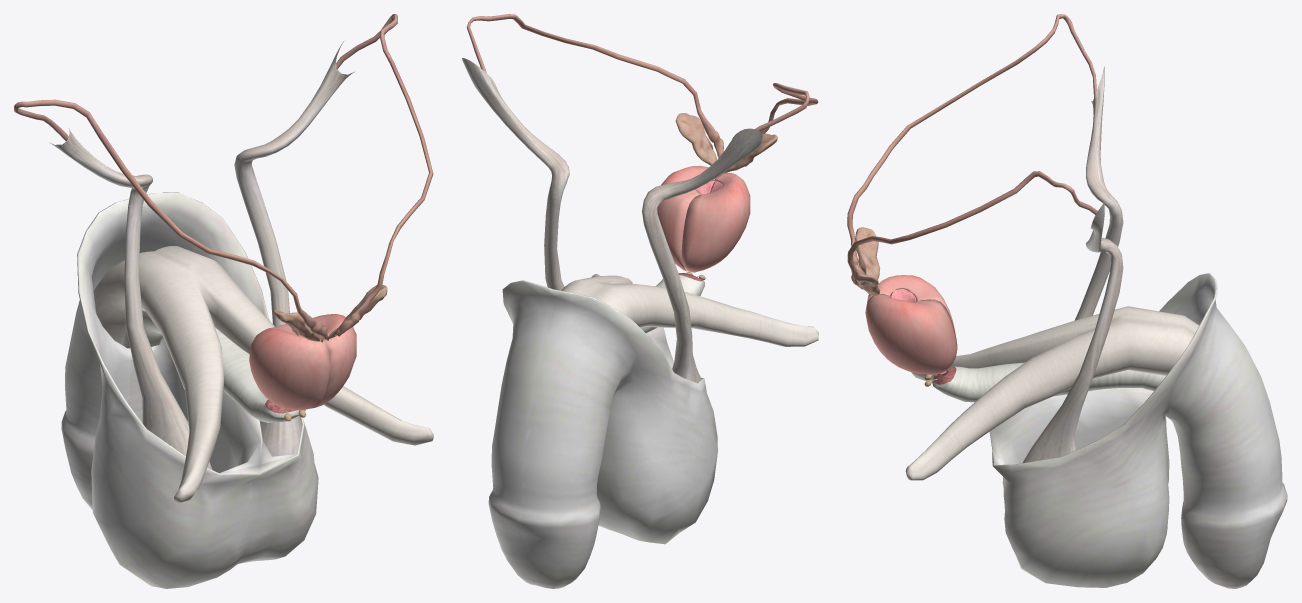
The model's file is reproductive.glb.
The picture shows the model from 3 angles, left to right: view 1: azimuth 30°, elevation 25°; view 2: azimuth 150°, elevation 25°; view 3: azimuth 270°, elevation 25°; orthographic projection. The views are drawn at different scales.
Parts seen in each view (by area): view 1: Dartos fascia#Male~300071, Buck's fascia (upper)#Male~300072, Spermatic fascia, L#Male~300697, Spermatic fascia, R#Male~300698, Prostatic capsule, L#Male~300085, Vas deferens, L#Male~001430, Buck's fascia (lower)#Male~300073, Vas deferens, R#Male~001429, Prostatic capsule, R#Male~300086, Seminal vesicle, L#Male~001432; view 2: Dartos fascia#Male~300071, Buck's fascia (upper)#Male~300072, Spermatic fascia, L#Male~300697, Prostatic capsule, L#Male~300085, Spermatic fascia, R#Male~300698, Vas deferens, R#Male~001429, Prostatic capsule, R#Male~300086, Seminal vesicle, R#Male~001433, Vas deferens, L#Male~001430, Seminal vesicle, L#Male~001432, Buck's fascia (lower)#Male~300073; view 3: Dartos fascia#Male~300071, Buck's fascia (upper)#Male~300072, Prostatic capsule, R#Male~300086, Spermatic fascia, R#Male~300698, Spermatic fascia, L#Male~300697, Buck's fascia (lower)#Male~300073, Vas deferens, L#Male~001430, Vas deferens, R#Male~001429, Prostatic capsule, L#Male~300085, Seminal vesicle, L#Male~001432.
Boxes of the visible parts, box(x1,y1,x2,y2) form: Dartos fascia#Male~300071: box(61, 192, 318, 588); Buck's fascia (upper)#Male~300072: box(93, 246, 433, 502); Spermatic fascia, L#Male~300697: box(49, 128, 212, 469); Spermatic fascia, R#Male~300698: box(234, 41, 354, 456); Prostatic capsule, L#Male~300085: box(249, 324, 329, 410); Vas deferens, L#Male~001430: box(14, 99, 328, 342); Buck's fascia (lower)#Male~300073: box(122, 310, 305, 422); Vas deferens, R#Male~001429: box(327, 14, 433, 340); Prostatic capsule, R#Male~300086: box(313, 314, 356, 407); Seminal vesicle, L#Male~001432: box(272, 310, 320, 341); Dartos fascia#Male~300071: box(488, 280, 717, 588); Buck's fascia (upper)#Male~300072: box(561, 274, 818, 346); Spermatic fascia, L#Male~300697: box(642, 128, 762, 382); Prostatic capsule, L#Male~300085: box(681, 172, 750, 272); Spermatic fascia, R#Male~300698: box(462, 58, 569, 290); Vas deferens, R#Male~001429: box(466, 14, 723, 158); Prostatic capsule, R#Male~300086: box(657, 165, 715, 270); Seminal vesicle, R#Male~001433: box(675, 113, 716, 165); Vas deferens, L#Male~001430: box(755, 83, 818, 133); Seminal vesicle, L#Male~001432: box(724, 133, 777, 172); Buck's fascia (lower)#Male~300073: box(640, 275, 704, 333); Dartos fascia#Male~300071: box(989, 273, 1287, 588); Buck's fascia (upper)#Male~300072: box(905, 306, 1199, 480); Prostatic capsule, R#Male~300086: box(865, 294, 957, 374); Spermatic fascia, R#Male~300698: box(1022, 200, 1123, 462); Spermatic fascia, L#Male~300697: box(1074, 66, 1123, 320); Buck's fascia (lower)#Male~300073: box(932, 362, 1165, 402); Vas deferens, L#Male~001430: box(847, 14, 1096, 273); Vas deferens, R#Male~001429: box(847, 171, 1097, 289); Prostatic capsule, L#Male~300085: box(867, 275, 955, 331); Seminal vesicle, L#Male~001432: box(855, 227, 880, 285).
Size of the model in its own units: 0.3549 by 0.4721 by 0.3919.
Materials: 5 (5 with a texture image).
